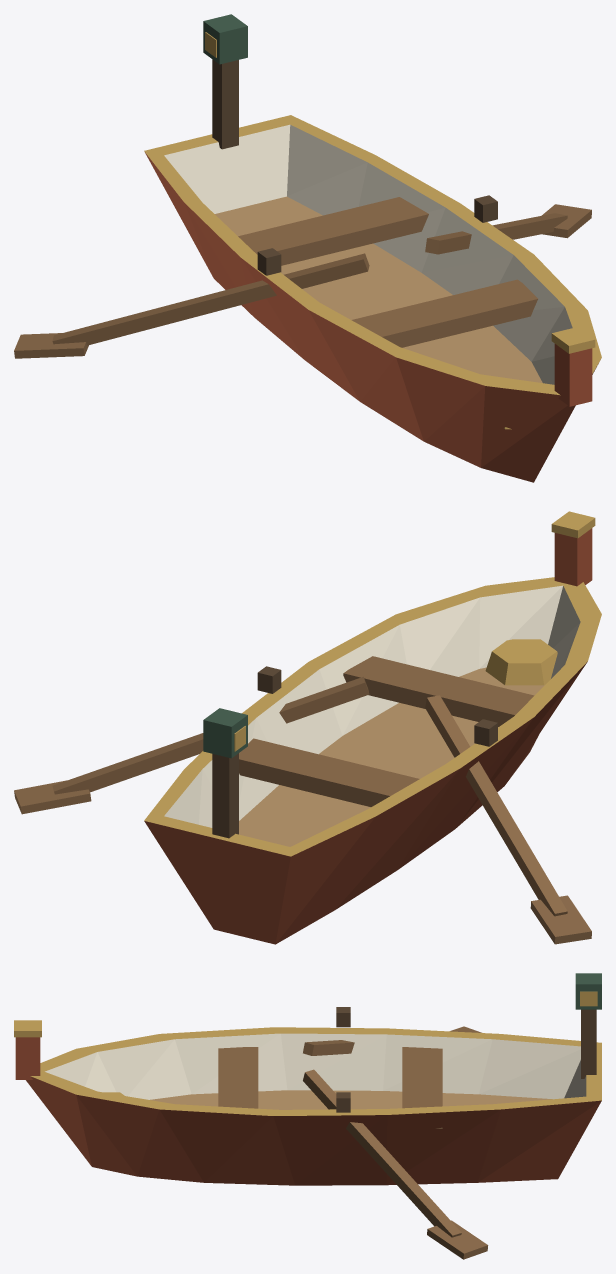
The model's file is rowboat.glb.
3 views of the same model, one above another, from view 1: azimuth 30°, elevation 25°; view 2: azimuth 150°, elevation 25°; view 3: azimuth 270°, elevation 25° (orthographic). The views are drawn at different scales.
Visible parts, largest first — view 1: rowboat; view 2: rowboat; view 3: rowboat.
Boxes of the visible parts, x1,y1,x2,y2 form: rowboat: [14, 14, 601, 482]; rowboat: [14, 511, 601, 944]; rowboat: [14, 973, 601, 1259].
Bounding box in the file's own units: 6.14 × 2.37 × 6.71.
Materials: 1 (1 with a texture image).
